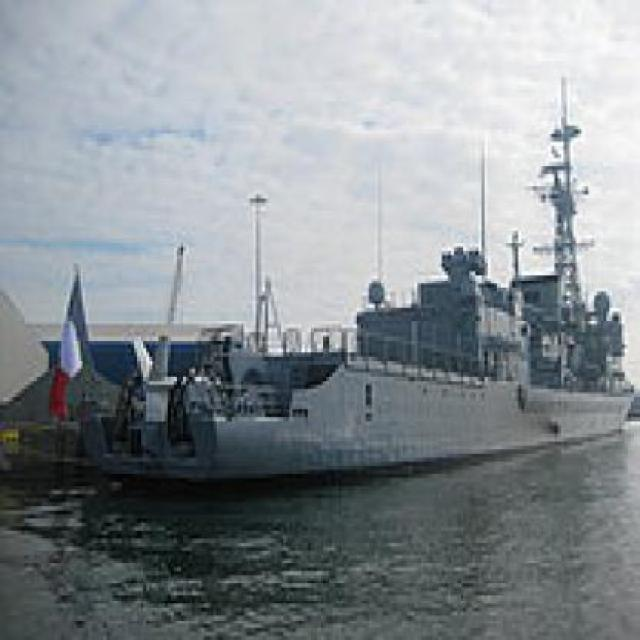warship2: (46, 87, 639, 516)
